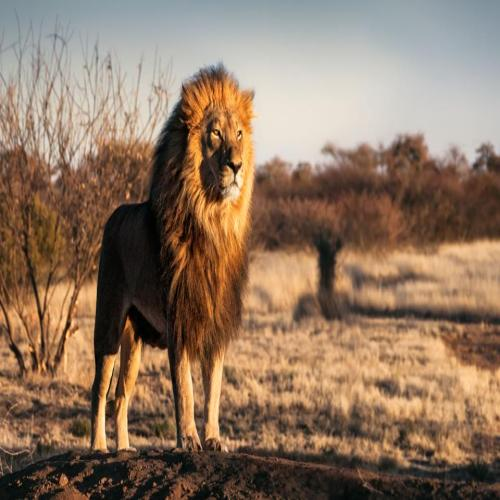lion-endangered: (89, 66, 256, 457)
